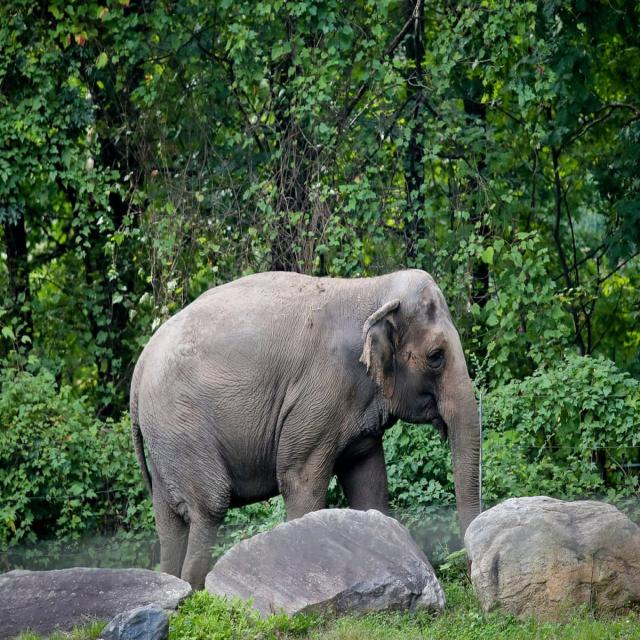Elephant: (128, 266, 482, 592)
